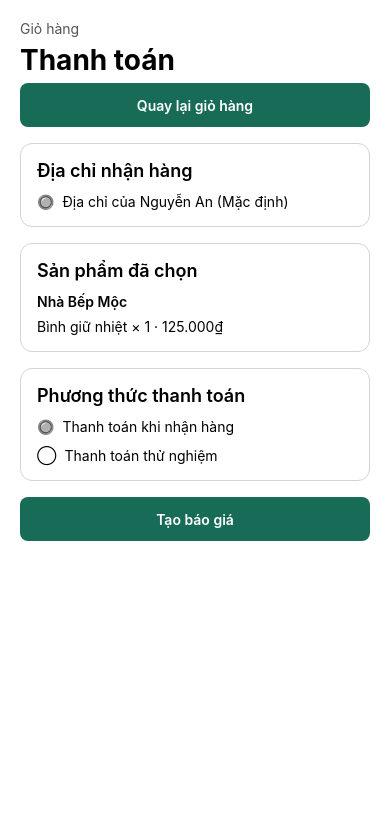
Test case: B08 disables a quote that has expired according to its server deadline
Click the button "Tạo báo giá": (195, 519) [20,497,370,541]
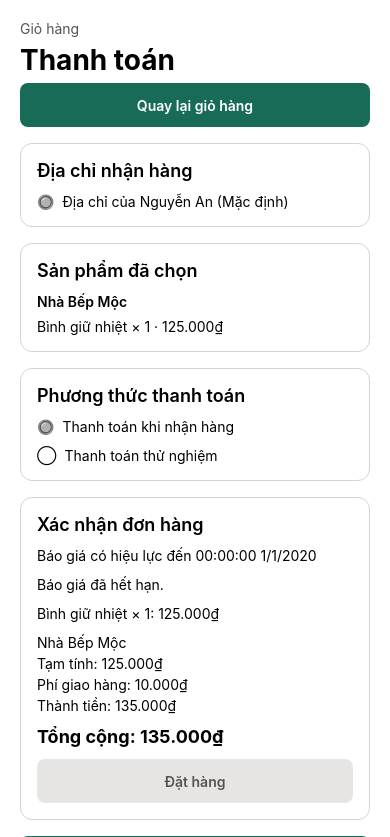
Expected: the text "Báo giá đã hết hạn." is shown, [37,576,164,593]
Expected: the button labelled "Đặt hàng" is disabled, [37,759,353,803]
